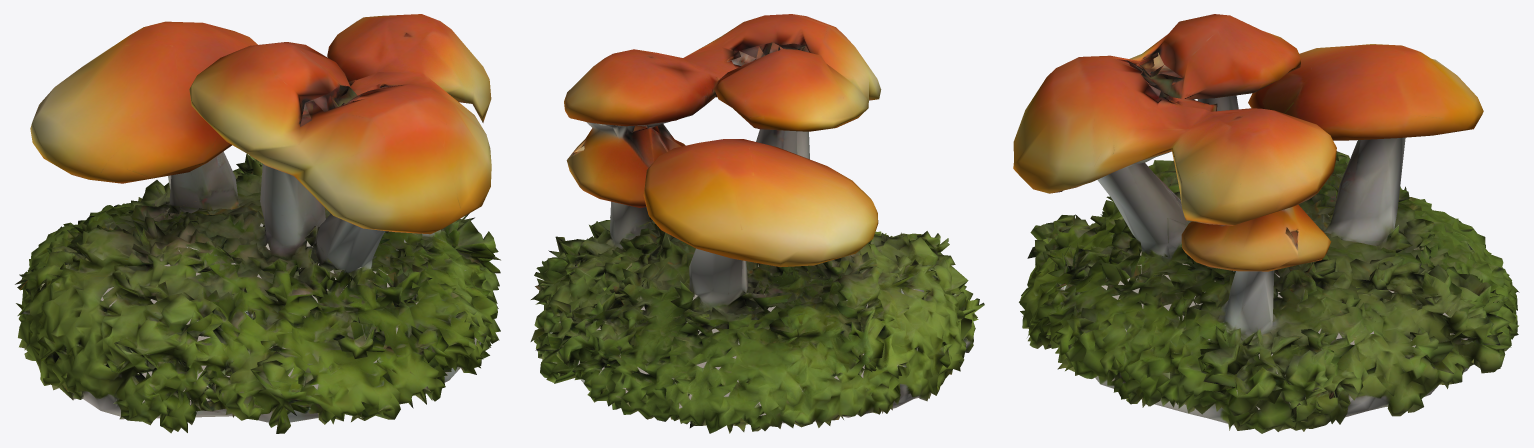
File: mushroom_cluster.glb
The picture shows the model from 3 angles, left to right: view 1: azimuth 30°, elevation 25°; view 2: azimuth 150°, elevation 25°; view 3: azimuth 270°, elevation 25°; orthographic projection. The views are drawn at different scales.
Bounding box in the file's own units: 1.99 × 1.39 × 2.
1 material, 1 textured.
